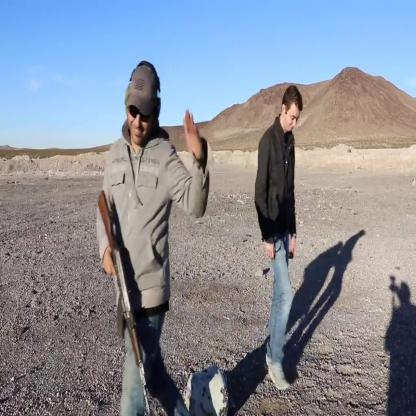long weapon: (89, 173, 166, 416)
